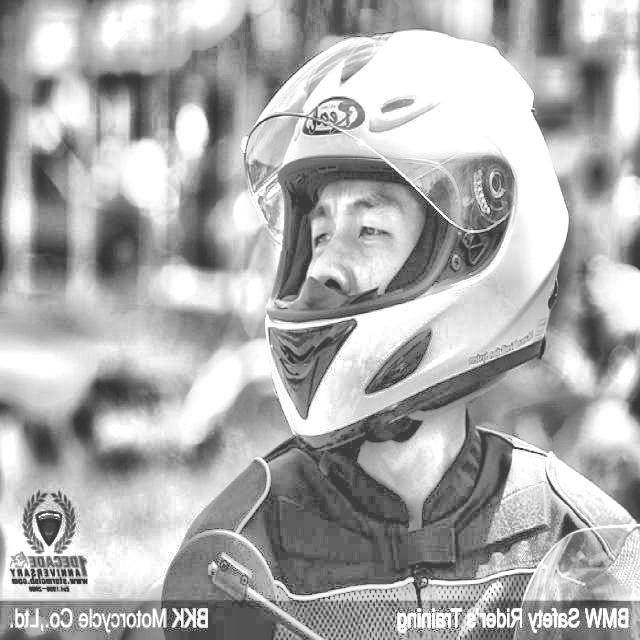Helmet: (238, 21, 572, 463)
